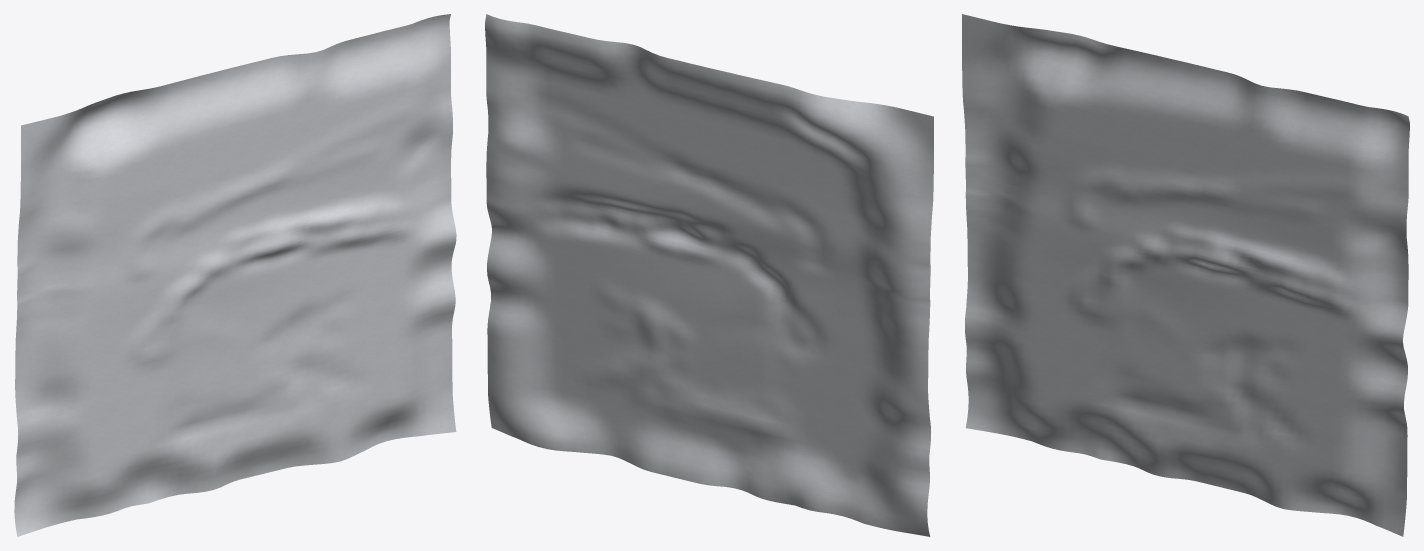
Rendered from snow_terrain_mesh.FBX.
3 renders of one model, left to right at view 1: azimuth 30°, elevation 25°; view 2: azimuth 150°, elevation 25°; view 3: azimuth 330°, elevation 25°, orthographic.
Parts seen in each view (by area): view 1: snow_terrain_mesh; view 2: snow_terrain_mesh; view 3: snow_terrain_mesh.
Boxes of the visible parts, x1=… form: snow_terrain_mesh: x1=14, y1=14, x2=456, y2=536; snow_terrain_mesh: x1=485, y1=14, x2=933, y2=536; snow_terrain_mesh: x1=962, y1=14, x2=1409, y2=536.
Bounding box in the file's own units: 5797 × 5251 × 410.
